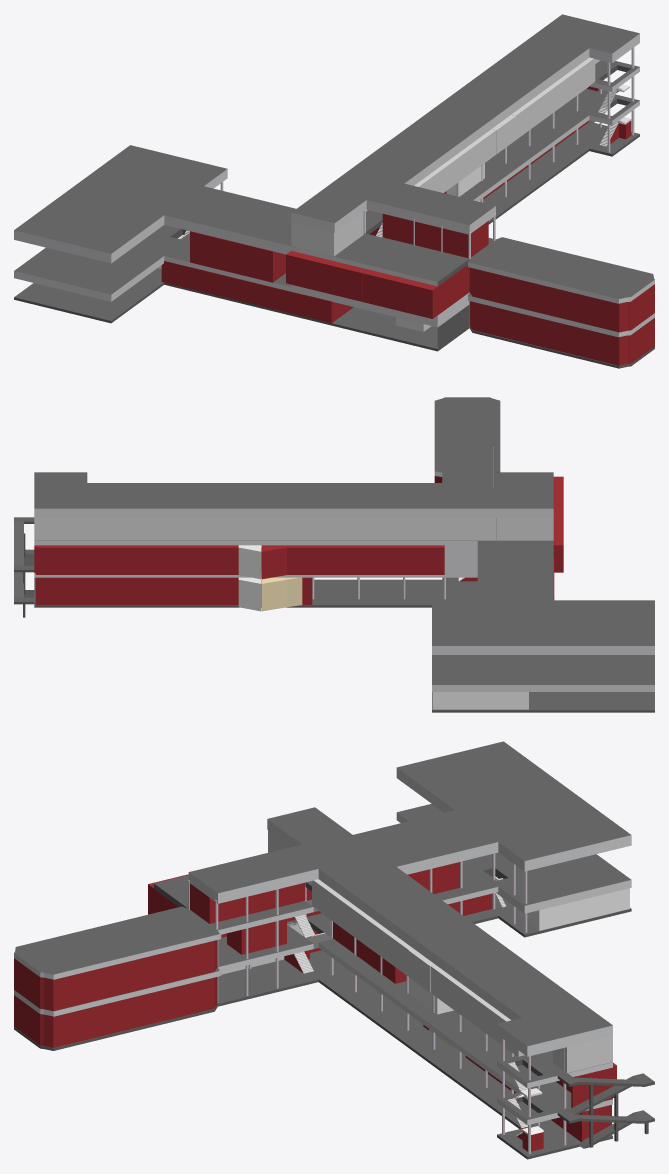
File: models_BloqueAyB-3D.glb
3 renders of one model, top to bottom at view 1: azimuth 30°, elevation 25°; view 2: azimuth 150°, elevation 25°; view 3: azimuth 270°, elevation 25°, orthographic. The views are drawn at different scales.
Parts seen in each view (by area): view 1: planta_0, A_capilla.001, A_capilla, A_14, A_12, Cylinder, B_4, A_13, A_17, A_19, B_3, B_2 (+16 smaller); view 2: planta_0, B_biblioteca, A_zona_admi_1, A_zn_admin, A_5, A_8, A_6, A_7, escalera_especial_0, A_4, A_1, A_zona_admin_2 (+18 smaller); view 3: planta_0, A_capilla.001, A_capilla, Cylinder, escalera_especial_0, B_biblioteca, A_zona_admin_3, A_zona_admin_5, A_17, A_32, A_29, A_30 (+9 smaller).
Part boxes in pixels (x1,y1,x2,y2): planta_0: (14, 14, 654, 368); A_capilla.001: (469, 301, 654, 365); A_capilla: (469, 267, 654, 332); A_14: (286, 250, 367, 301); A_12: (396, 264, 469, 318); Cylinder: (220, 47, 634, 327); B_4: (245, 244, 285, 282); A_13: (363, 269, 400, 309); A_17: (442, 221, 488, 257); A_19: (320, 212, 363, 256); B_3: (217, 238, 245, 275); B_2: (190, 231, 217, 268); planta_0: (34, 397, 654, 712); B_biblioteca: (432, 692, 528, 709); A_zona_admi_1: (261, 545, 312, 579); A_zn_admin: (261, 577, 312, 611); A_5: (35, 545, 86, 574); A_8: (187, 545, 238, 574); A_6: (86, 545, 136, 574); A_7: (137, 545, 187, 574); escalera_especial_0: (14, 517, 34, 617); A_4: (187, 577, 238, 604); A_1: (35, 577, 86, 604); A_zona_admin_2: (312, 545, 359, 574); planta_0: (14, 741, 631, 1159); A_capilla.001: (14, 977, 217, 1047); A_capilla: (14, 940, 217, 1011); Cylinder: (188, 853, 566, 1154); escalera_especial_0: (557, 1073, 654, 1148); B_biblioteca: (491, 876, 629, 930); A_zona_admin_3: (227, 918, 286, 954); A_zona_admin_5: (553, 1039, 597, 1073); A_17: (190, 883, 239, 923); A_32: (463, 988, 500, 1039); A_29: (344, 902, 381, 952); A_30: (376, 925, 413, 975).
Bounding box in the file's own units: 140 × 21.5 × 110.
